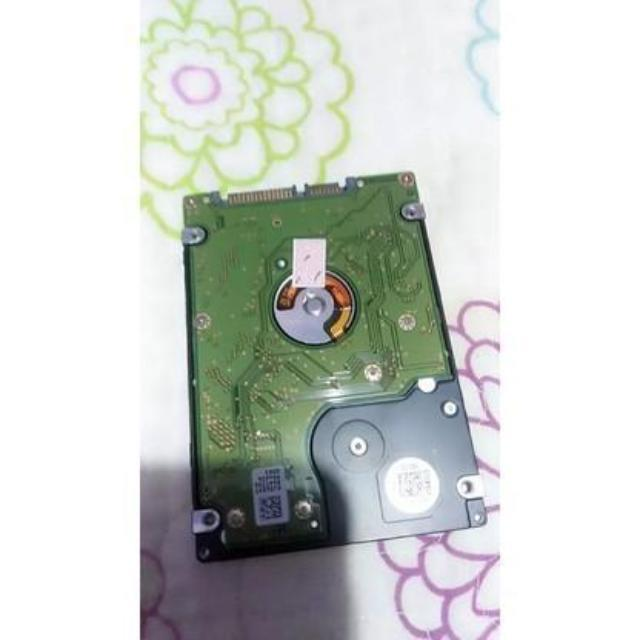DISK: (177, 165, 486, 550)
